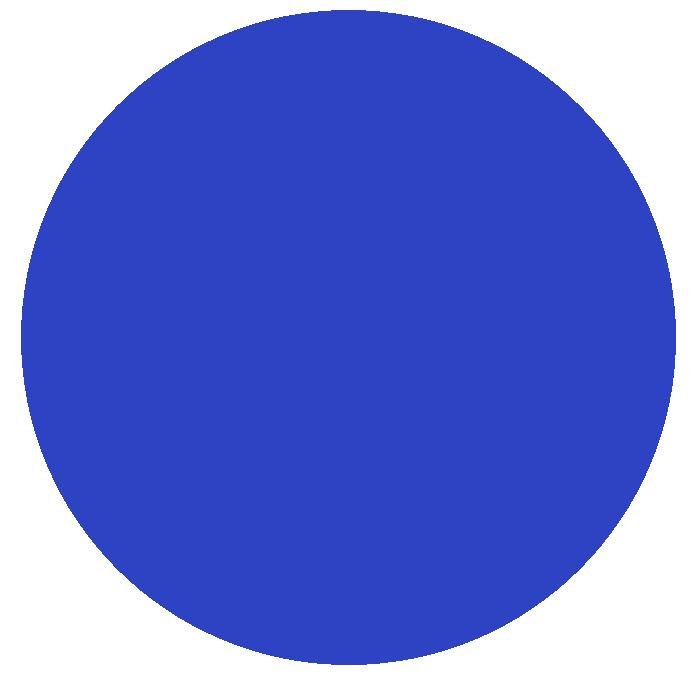blue_circle: (13, 5, 685, 674)
